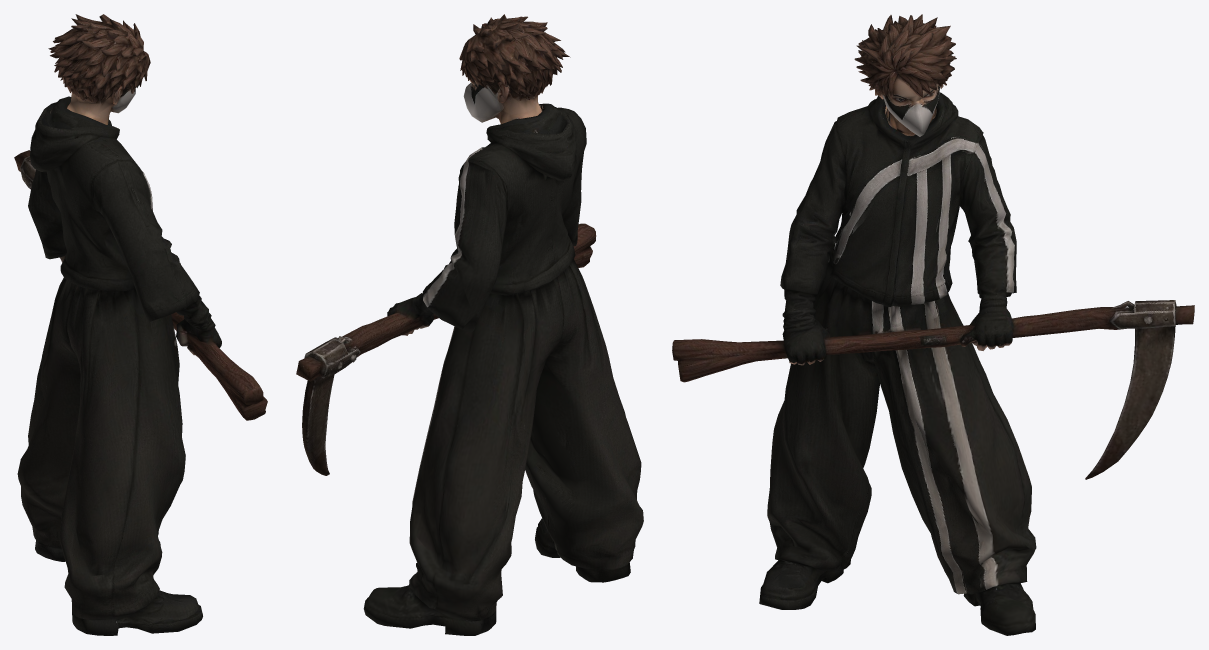
File: Jester.glb
The picture shows the model from 3 angles, left to right: view 1: azimuth 30°, elevation 25°; view 2: azimuth 150°, elevation 25°; view 3: azimuth 270°, elevation 25°; orthographic projection. The views are drawn at different scales.
Visible parts, largest first — view 1: tripo_node_ad7aeec1-326d-4b86-a65e-d54a5ff156b5; view 2: tripo_node_ad7aeec1-326d-4b86-a65e-d54a5ff156b5; view 3: tripo_node_ad7aeec1-326d-4b86-a65e-d54a5ff156b5.
Part boxes in pixels (<box>): tripo_node_ad7aeec1-326d-4b86-a65e-d54a5ff156b5: <box>14,14,267,635</box>; tripo_node_ad7aeec1-326d-4b86-a65e-d54a5ff156b5: <box>296,14,643,635</box>; tripo_node_ad7aeec1-326d-4b86-a65e-d54a5ff156b5: <box>672,14,1194,635</box>.
Size of the model in its own units: 0.3191 by 1 by 0.8216.
1 material, 1 textured.
